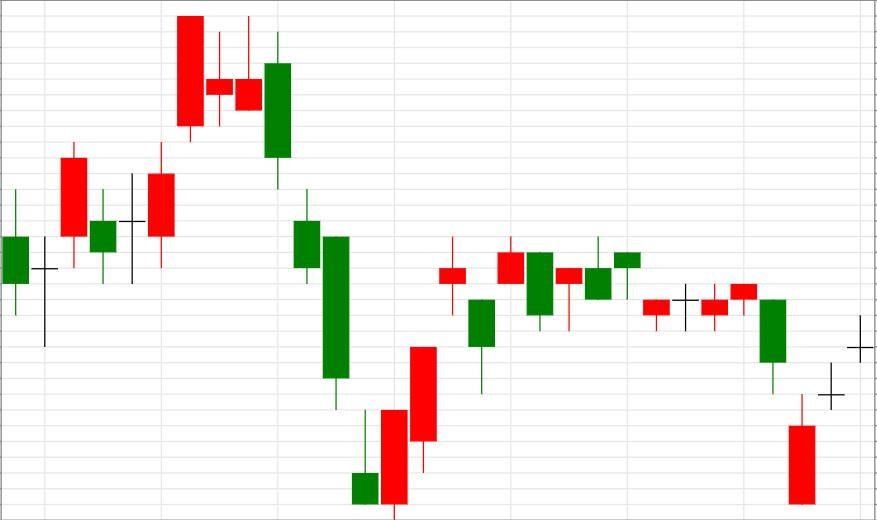inverse_hammer_rise: (265, 31, 379, 505)
